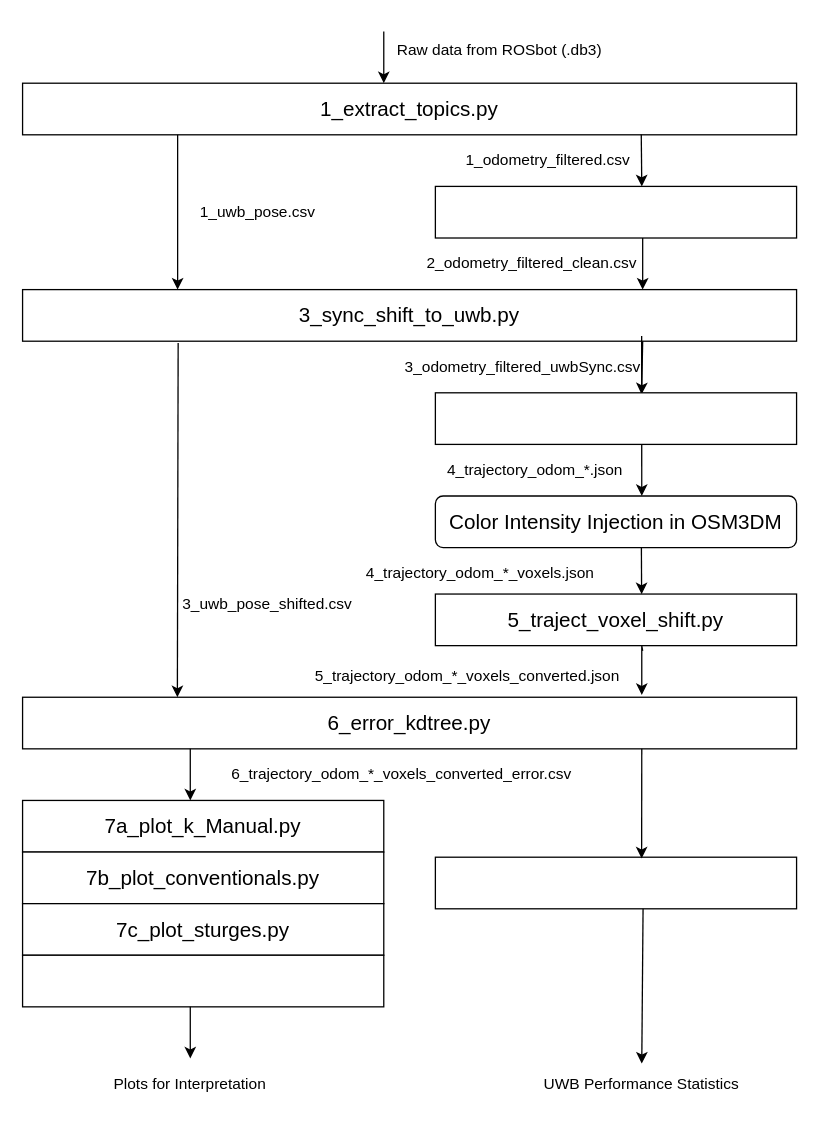
This 819x1133 diagram has some shape labels left out. The shapes that lost their labels are listed below. From the top down, each one's centre as x and y in pixels, then its label:
(x=615, y=211): 2_odom_clean.py
(x=615, y=418): 4_traject_resample.py
(x=615, y=882): 8_position_accuracy.py
(x=202, y=980): 7d_plot_regressions.py
